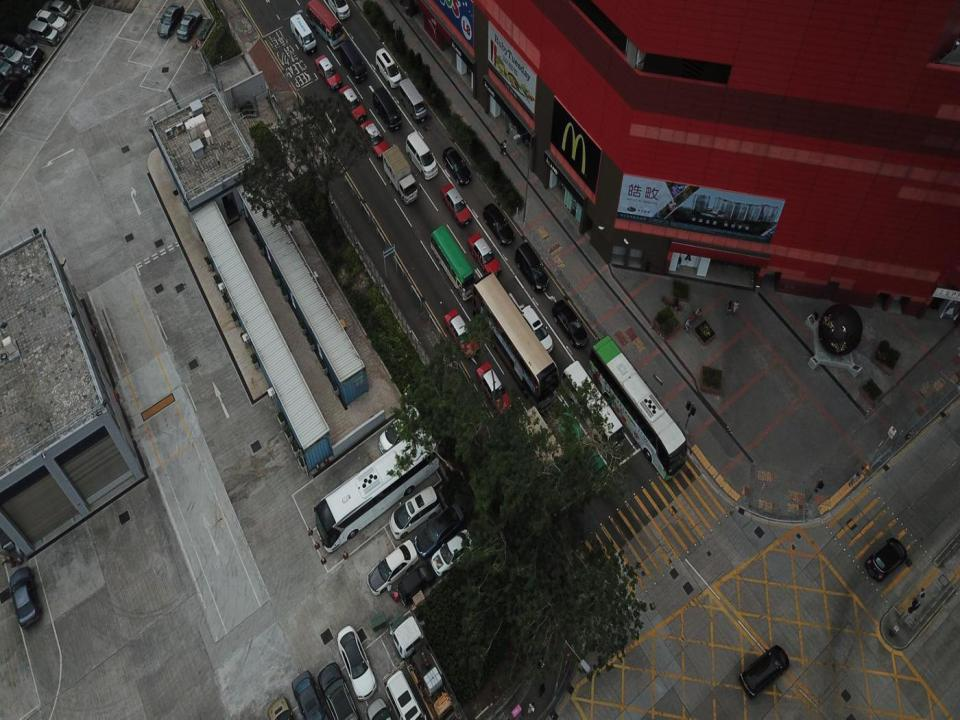bus: (314, 422, 442, 555), (588, 336, 690, 482), (472, 272, 558, 408), (561, 359, 625, 457), (430, 223, 476, 301), (305, 0, 343, 50)
car: (336, 625, 376, 701), (389, 484, 439, 542), (367, 540, 418, 596), (738, 644, 790, 698), (413, 502, 464, 557), (432, 526, 479, 578), (316, 662, 358, 719), (8, 564, 43, 632), (378, 405, 420, 455), (385, 670, 427, 719), (475, 360, 511, 414), (866, 536, 908, 582), (552, 295, 588, 348), (520, 302, 554, 356), (292, 670, 329, 719), (397, 561, 437, 606), (515, 242, 550, 293), (446, 306, 478, 360), (466, 229, 501, 278), (482, 202, 516, 246), (441, 182, 472, 226), (441, 146, 472, 187), (360, 114, 388, 156), (156, 2, 185, 39), (338, 82, 366, 120), (315, 53, 341, 91), (25, 19, 60, 45), (34, 7, 67, 34), (177, 9, 202, 42), (267, 695, 297, 719), (367, 697, 396, 719), (0, 40, 22, 64)
truck: (390, 613, 460, 719), (517, 406, 570, 494), (383, 141, 417, 204)
van: (404, 129, 437, 180), (372, 86, 402, 131), (399, 76, 428, 121), (339, 36, 366, 82), (375, 45, 401, 90), (290, 12, 317, 54)
